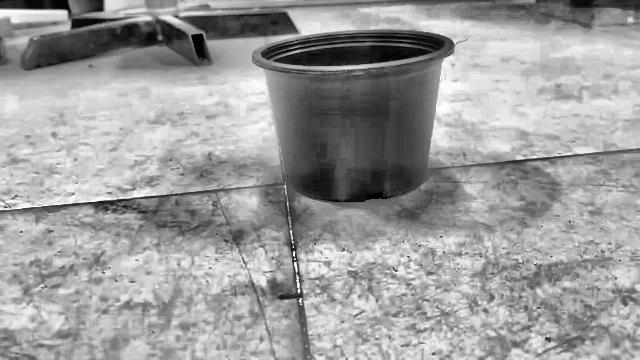pot: (252, 30, 454, 202)
